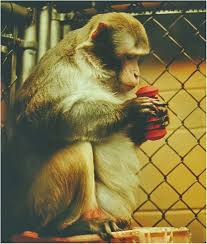monkey: (22, 4, 189, 221)
